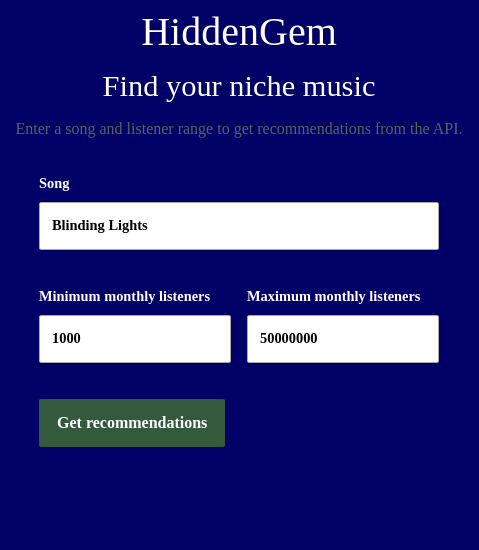
App › shows a validation error without sending an invalid listener range
Replace the text in the number field labelled "Minimum monthly listeners" with "5000000" at (135, 339), box [39,315,231,363]
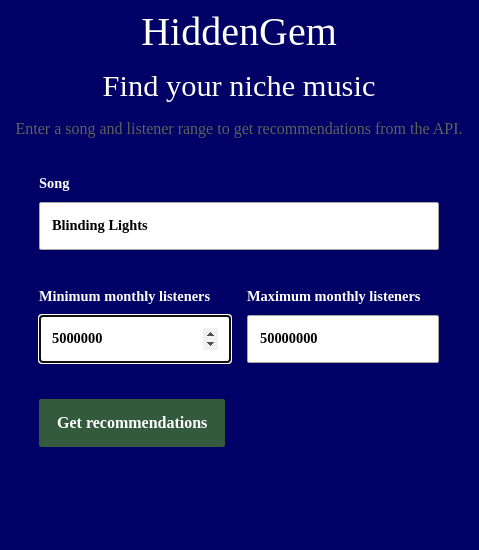
Replace the text in the number field labelled "Maximum monthly listeners" with "1000" at (343, 339), box [247,315,439,363]
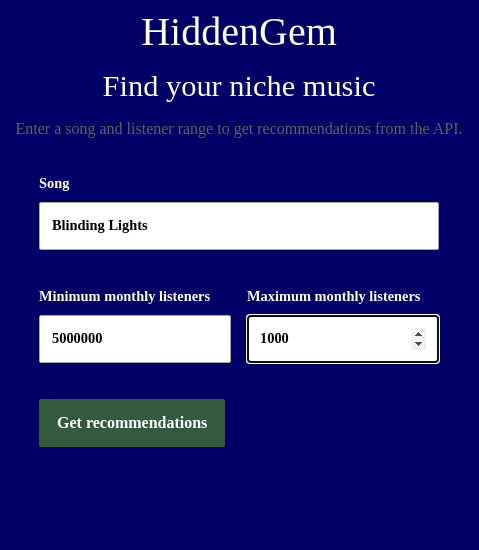
Click the button "Get recommendations" at (132, 423), box [39,399,225,447]
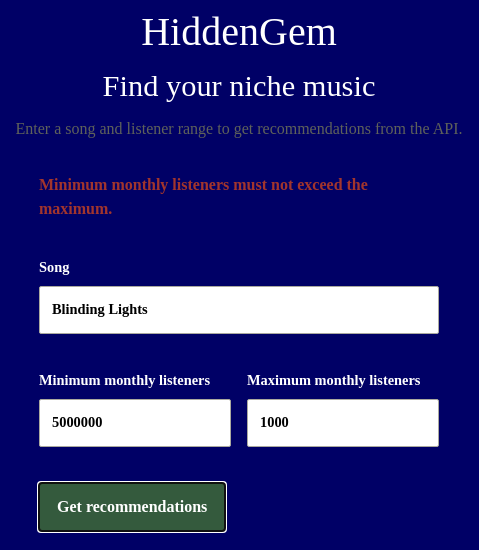
Check: the message reads "Minimum monthly listeners must not exceed the maximum.", box [39,176,368,216]
